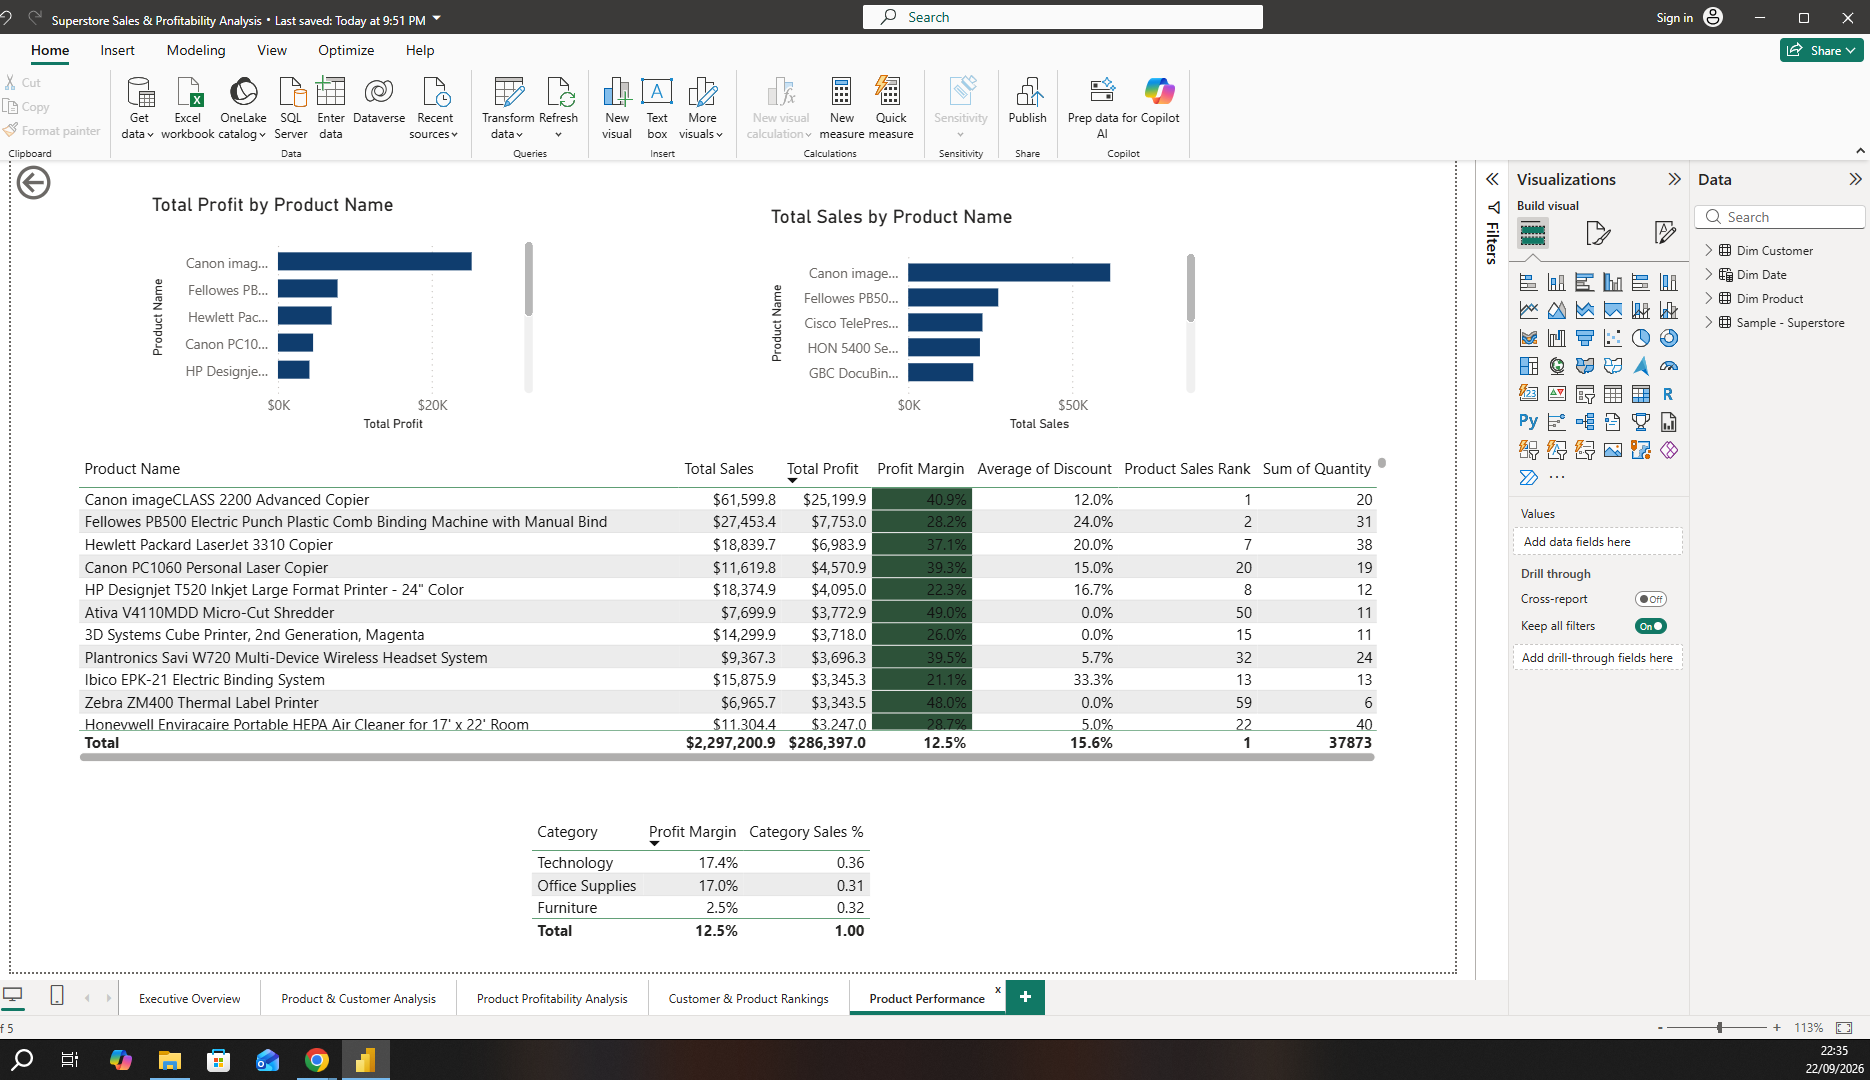

What the dashboard file says about the page in this screenshot:
{"tool":"powerbi","page":{"name":"Product Performance","canvas":[1280,720],"ordinal":4},"visuals":[{"type":"barChart","fields":{"Category":["Sample - Superstore.Product Name"],"Y":["Sample - Superstore.Total Profit"]},"box":[119.6,29.2,348.5,215.5],"z":0},{"type":"tableEx","fields":{"Values":["Sample - Superstore.Product Name","Sample - Superstore.Total Sales","Sample - Superstore.Total Profit","Sample - Superstore.Profit Margin","Avg(Sample - Superstore.Discount)","Sample - Superstore.Product Sales Rank","Sum(Sample - Superstore.Quantity)"]},"box":[54.5,257.8,1171.1,281.1],"z":2000},{"type":"clusteredBarChart","fields":{"Category":["Sample - Superstore.Product Name"],"Y":["Sample - Superstore.Total Sales"]},"box":[668.2,39.9,386.6,204.8],"z":3000},{"type":"tableEx","fields":{"Values":["Sample - Superstore.Category","Sample - Superstore.Profit Margin","Sample - Superstore.Category Sales %"]},"box":[456.2,579.7,366.7,127.4],"z":10000},{"type":"actionButton","box":[0,0,100,40],"z":12000}]}

Visuals, with their boxes on the page's 1280x720 design canvas (x1, y1, x2, y2). These are canvas units, not pixel positions in the 1870x1080 screenshot, which may show the page scaled, cropped or inside an application window:
barChart - Sample - Superstore.Product Name x Sample - Superstore.Total Profit: [x1=120, y1=29, x2=468, y2=245]
tableEx - Sample - Superstore.Product Name x Sample - Superstore.Total Sales: [x1=54, y1=258, x2=1226, y2=539]
clusteredBarChart - Sample - Superstore.Product Name x Sample - Superstore.Total Sales: [x1=668, y1=40, x2=1055, y2=245]
tableEx - Sample - Superstore.Category x Sample - Superstore.Profit Margin: [x1=456, y1=580, x2=823, y2=707]
actionButton: [x1=0, y1=0, x2=100, y2=40]
